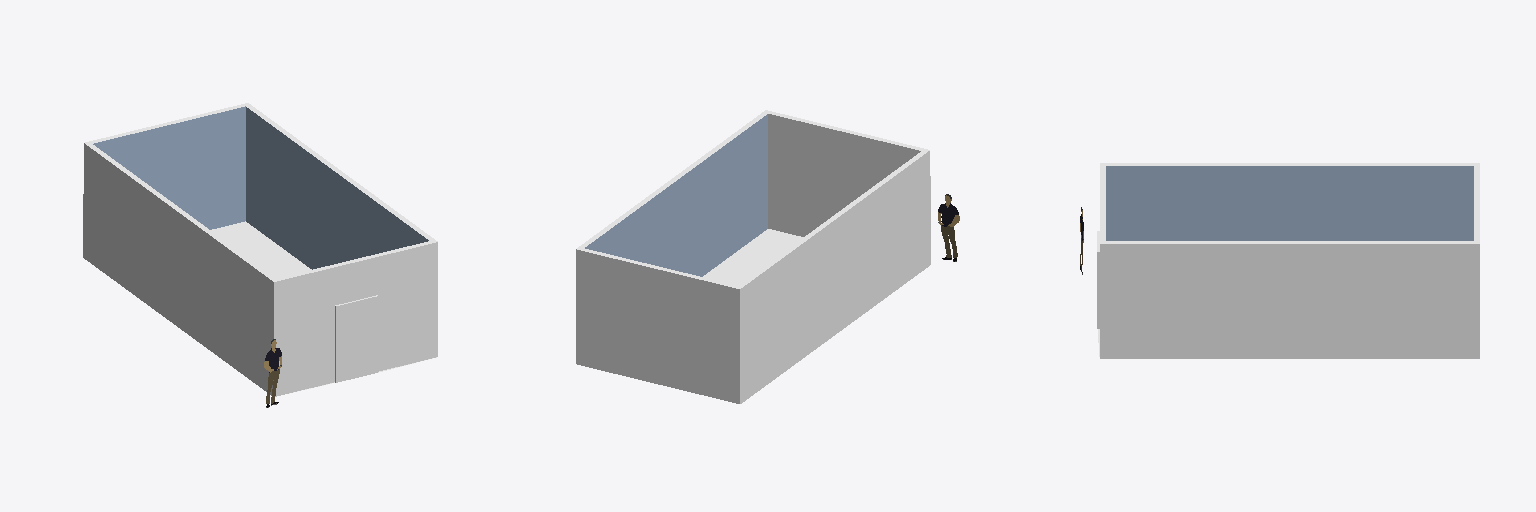
Rendered from room-1.obj.
3 views of the same model, side by side, from view 1: azimuth 30°, elevation 25°; view 2: azimuth 150°, elevation 25°; view 3: azimuth 270°, elevation 25° (orthographic).
Parts seen in each view (by area): view 1: Mesh2 Model, Mesh1 Chris1 Model; view 2: Mesh2 Model, Mesh1 Chris1 Model; view 3: Mesh2 Model.
Boxes of the visible parts, box(x1,y1,x2,y2) form: Mesh2 Model: box(83, 103, 437, 396); Mesh1 Chris1 Model: box(264, 339, 281, 407); Mesh2 Model: box(576, 110, 930, 403); Mesh1 Chris1 Model: box(938, 194, 959, 261); Mesh2 Model: box(1097, 163, 1479, 358).
Size of the model in its own units: 201 by 120 by 379.